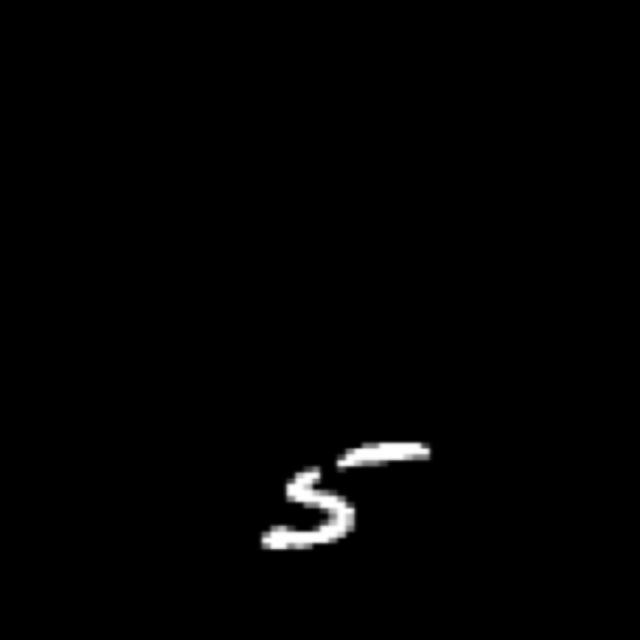five -5-: (247, 438, 438, 557)
